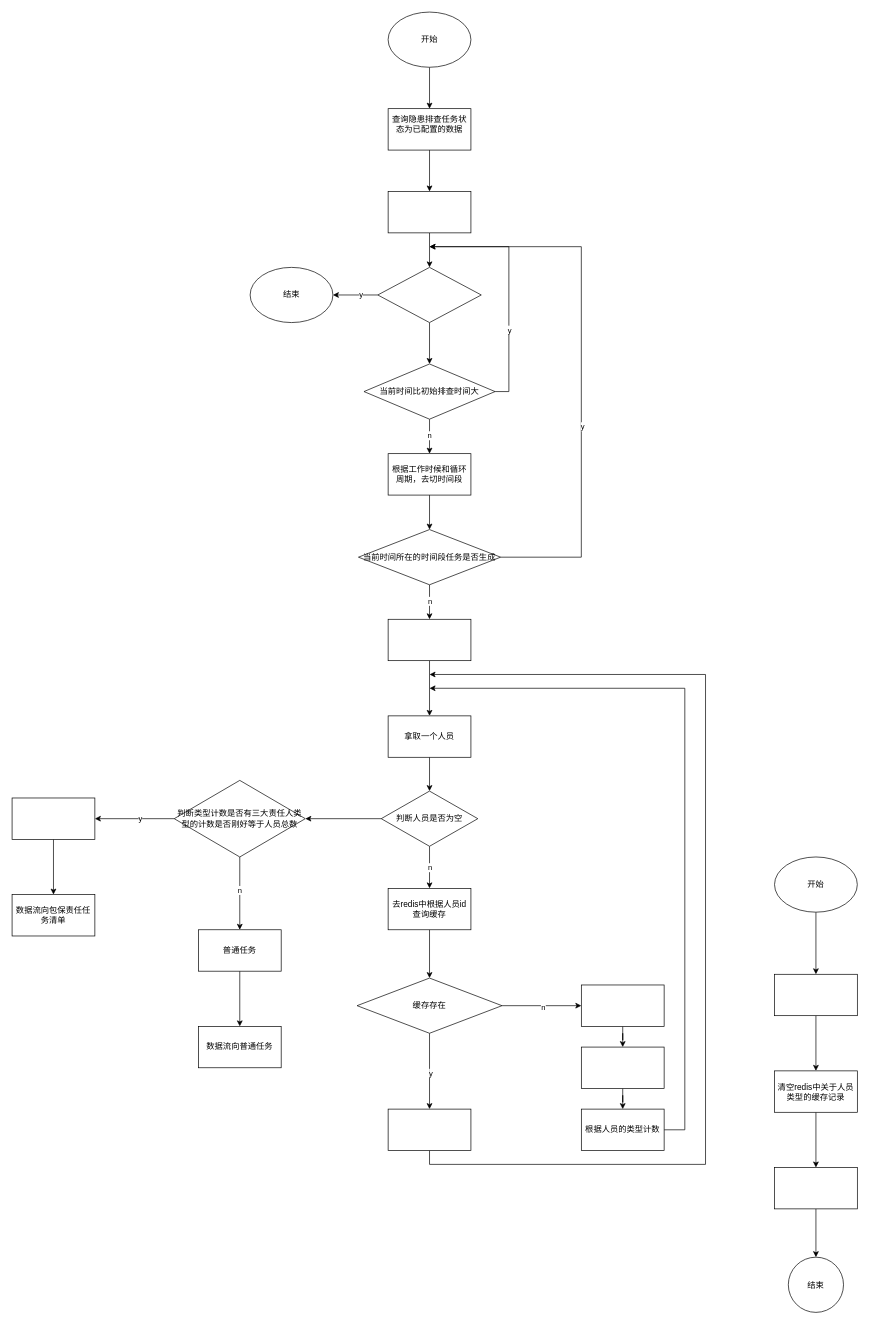
The diagram is 869 pixels wide and 1325 high, and some of its shapes have lost their labels. Here are the shapes that lost their labels. From the top down, the centre of each, then its label:
At point (429, 212): "拿取一个任务".
At point (429, 295): "判断是否为空".
At point (429, 640): "根据任务信息，查询任务分配的人员".
At point (53, 818): "任务为责任人任务".
At point (622, 1005): "查询所有包保责任制的数据，与当前人员做比较，得出人员的类型".
At point (815, 995): "修改包保责任制的人员信息".
At point (622, 1067): "将人员信息写入缓存，1小时有效期".
At point (429, 1129): "根据缓存中存储的人员类型，进行计数".
At point (815, 1188): "修改数据库".
